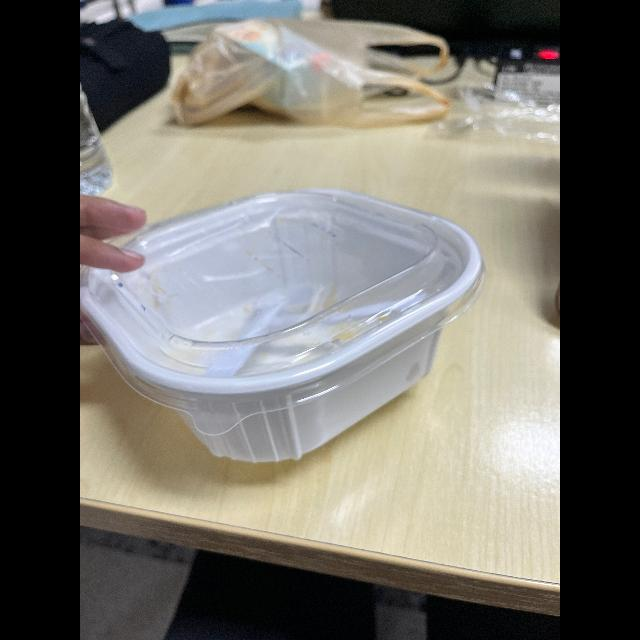plastic_box: (80, 175, 492, 470)
